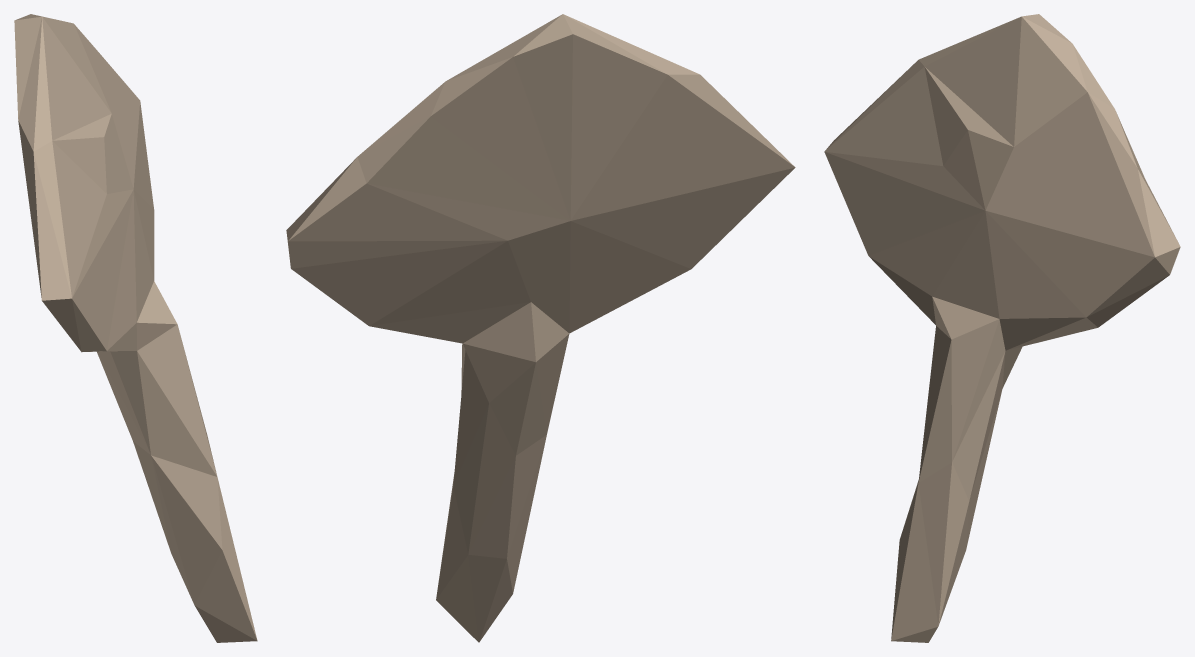
3 renders of one model, left to right at view 1: azimuth 30°, elevation 25°; view 2: azimuth 150°, elevation 25°; view 3: azimuth 270°, elevation 25°, orthographic. The views are drawn at different scales.
Visible parts, largest first — view 1: part0; view 2: part0; view 3: part0.
Part boxes in pixels (x1,y1,x2,y2): part0: [14, 14, 257, 642]; part0: [286, 14, 795, 642]; part0: [824, 14, 1180, 642].
Bounding box in the file's own units: 11.37 × 24.68 × 13.97.
